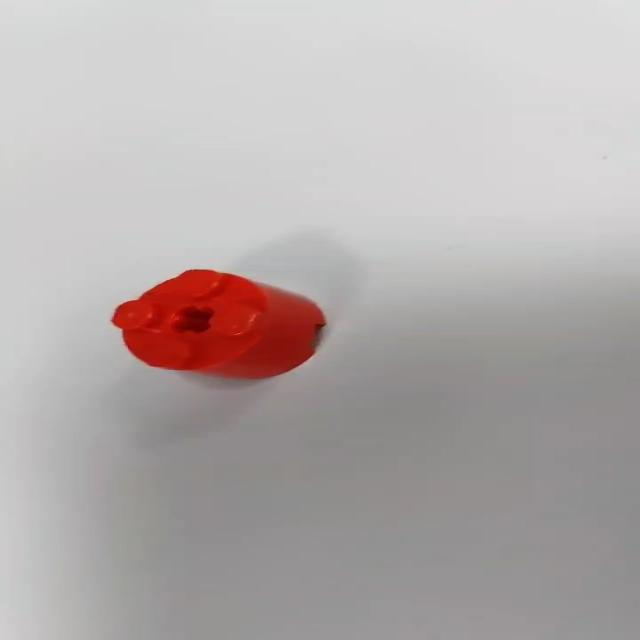S2x2x1: (106, 266, 333, 382)
